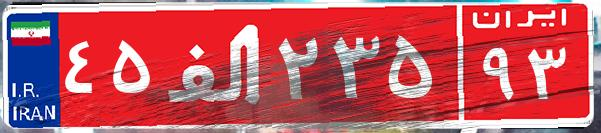2: (273, 28, 330, 110)
3: (330, 28, 385, 110), (525, 38, 570, 115)
4: (57, 26, 110, 107)
5: (385, 28, 445, 110), (110, 28, 158, 105)
9: (475, 38, 525, 113)
الف: (158, 15, 273, 115)
